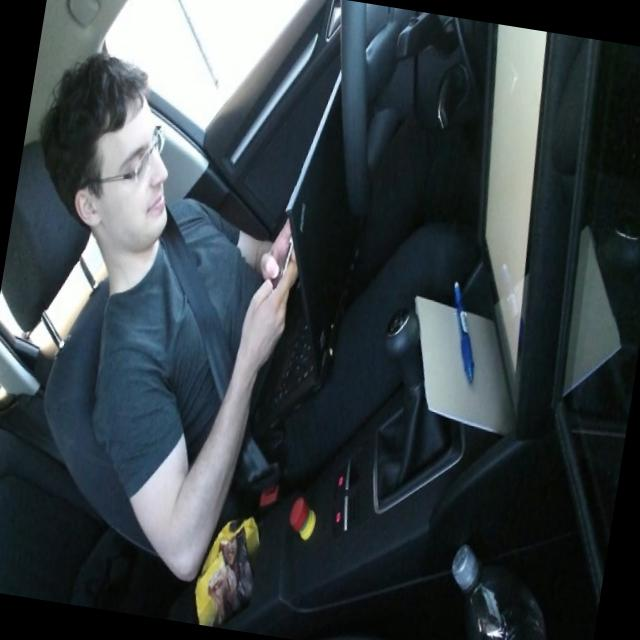laptop: (239, 58, 383, 452)
pen: (438, 278, 489, 384)
